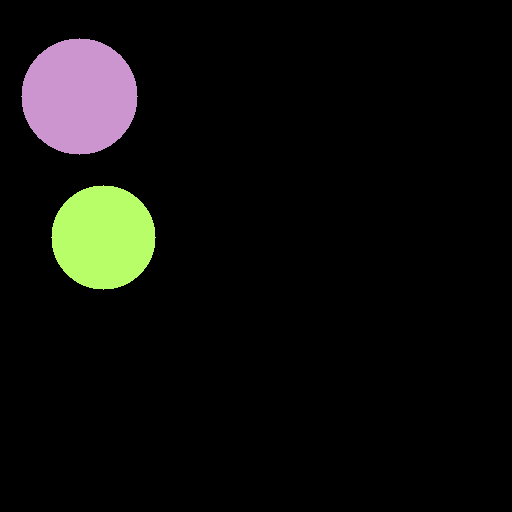circle: (21, 38, 137, 154), (51, 185, 155, 289)
